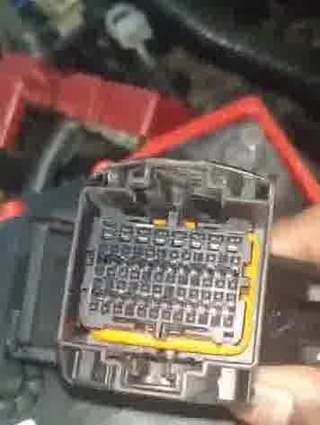connector: (56, 157, 277, 409)
